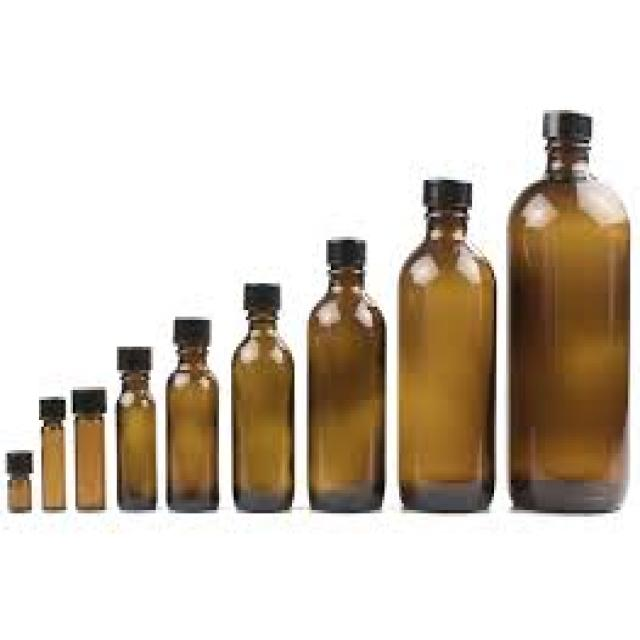glass: (506, 137, 628, 510), (394, 207, 492, 507), (307, 263, 385, 507), (231, 303, 290, 510), (163, 343, 217, 510), (117, 367, 156, 507), (73, 413, 102, 507), (39, 420, 63, 507), (8, 473, 30, 507)
metal: (421, 167, 467, 207), (541, 107, 592, 143), (326, 230, 360, 267), (171, 314, 210, 344), (112, 340, 151, 367), (71, 383, 102, 410), (241, 280, 277, 303), (39, 390, 63, 417), (5, 450, 29, 473)
